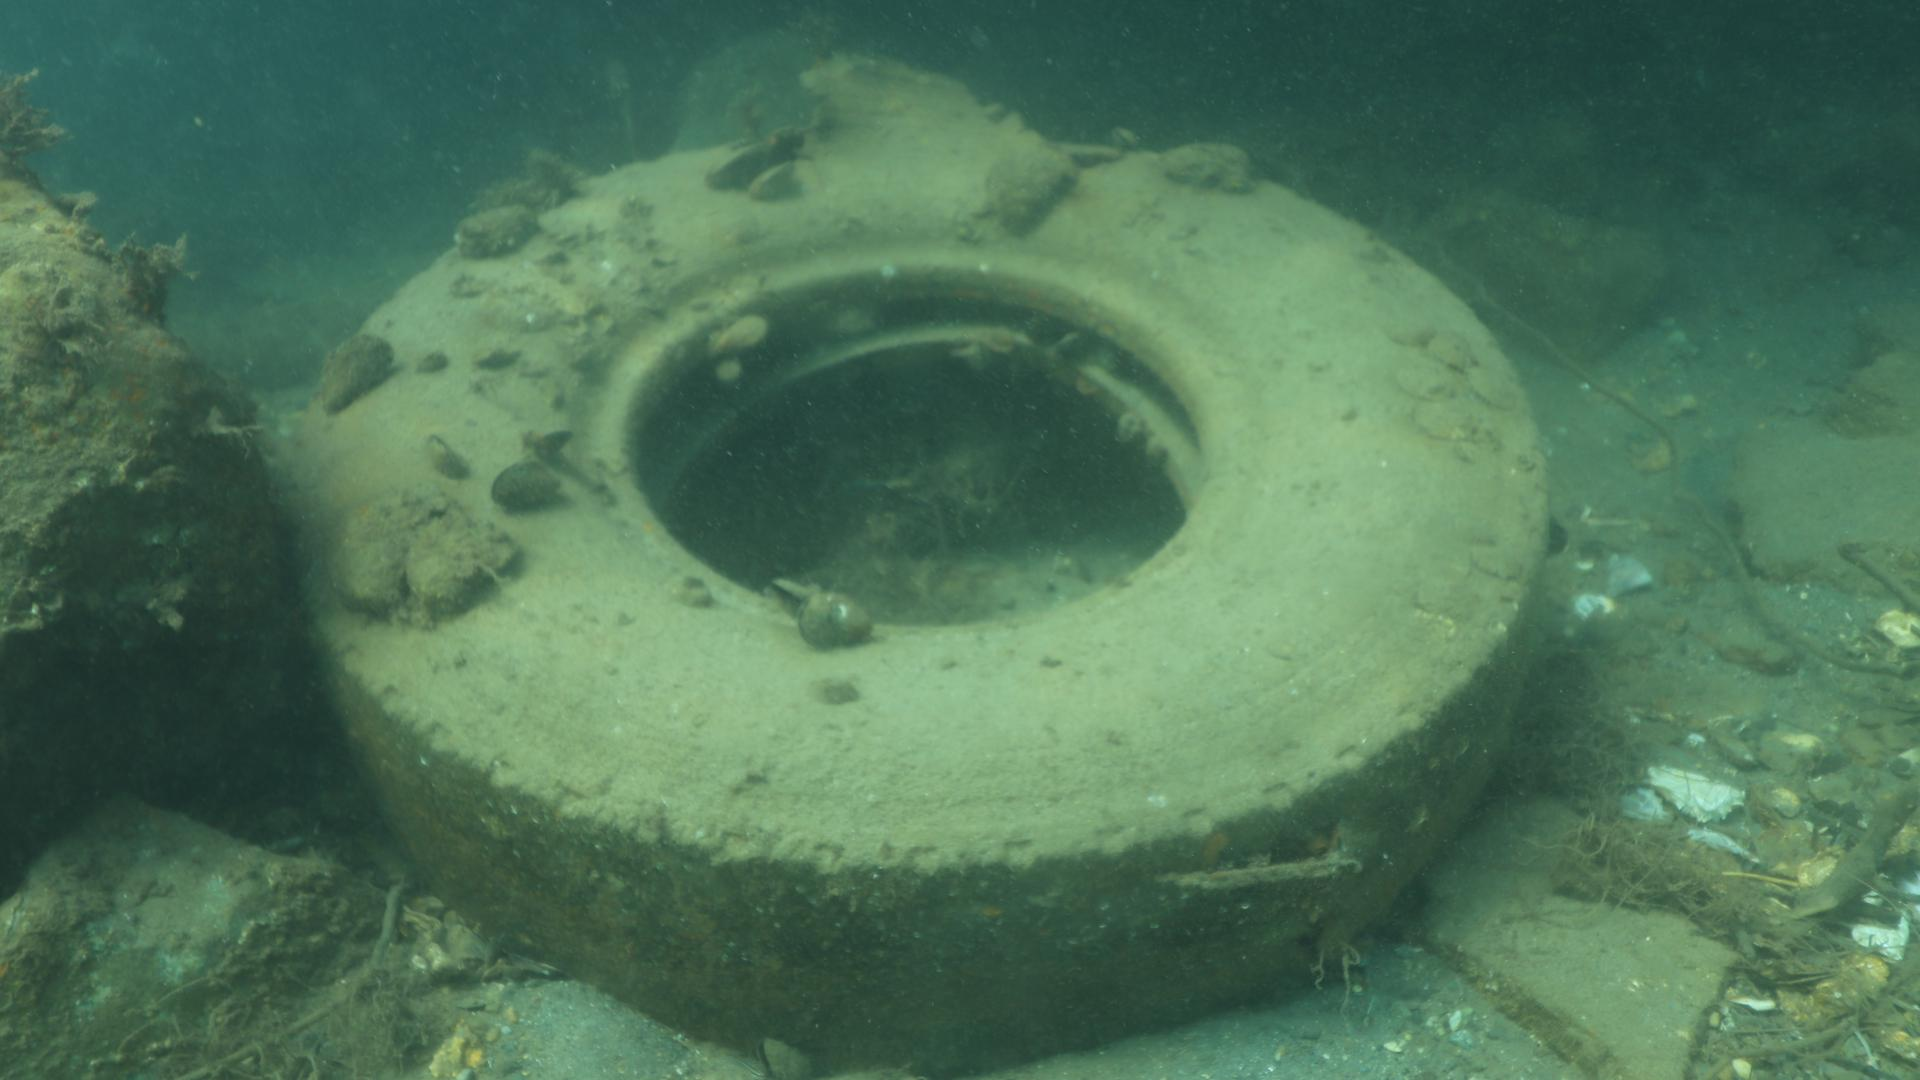tire: (290, 131, 1549, 1065)
